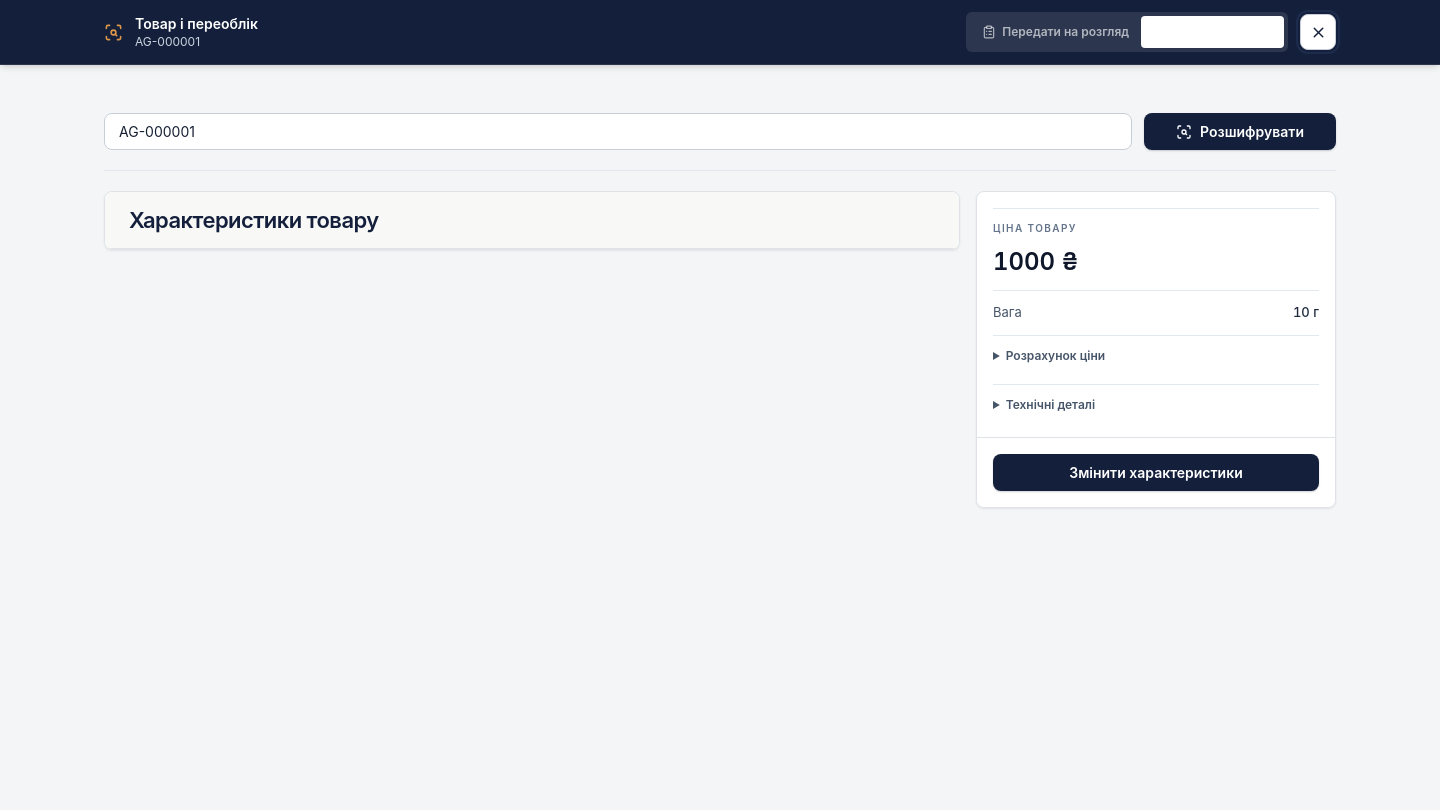
Test case: permitted initial apply selects an available action and never submits it on opening
Click the button "Змінити характеристики": (1156, 472) 993,454 -> 1319,490
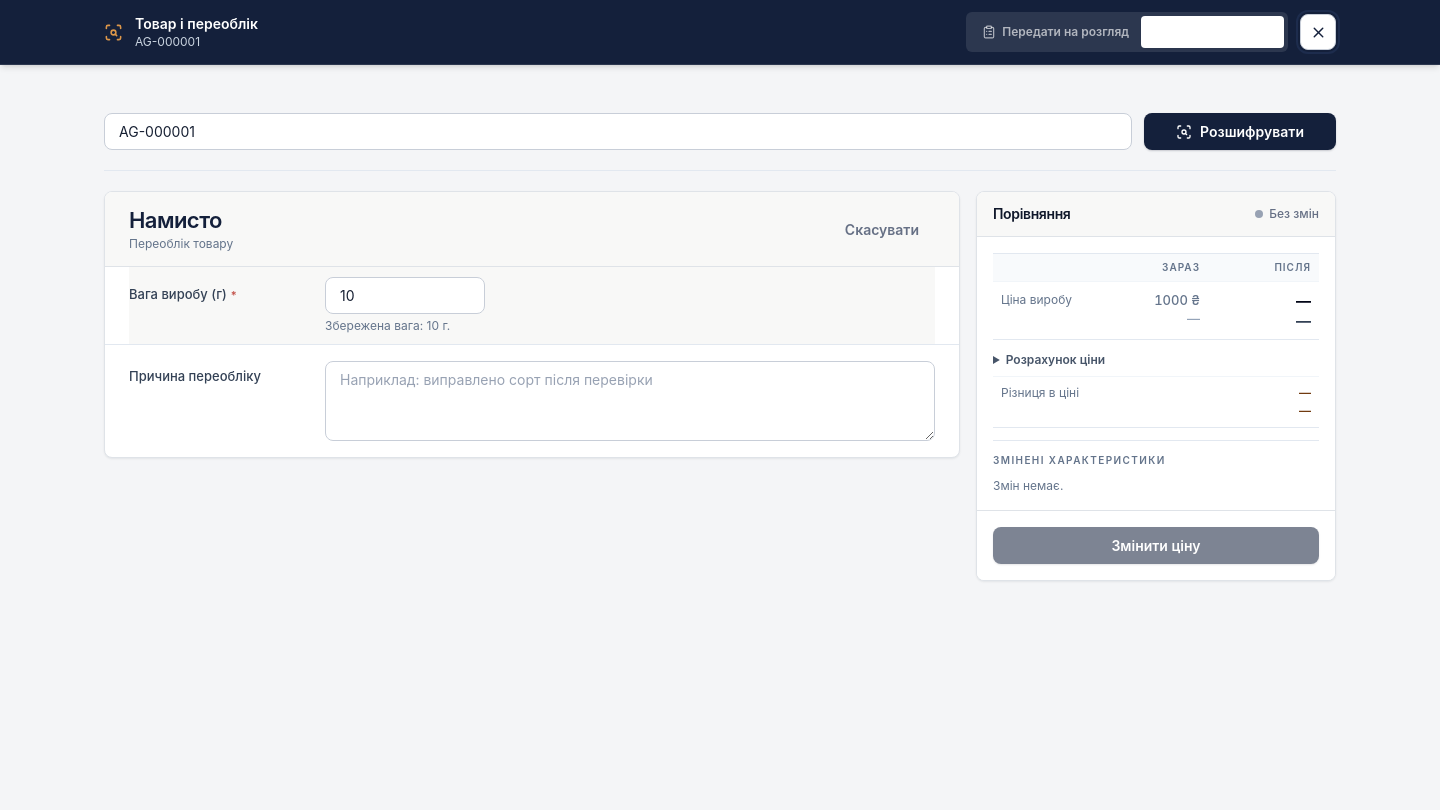
Check: the text box labelled "Причина переобліку" is shown, box 325,361 -> 935,441
